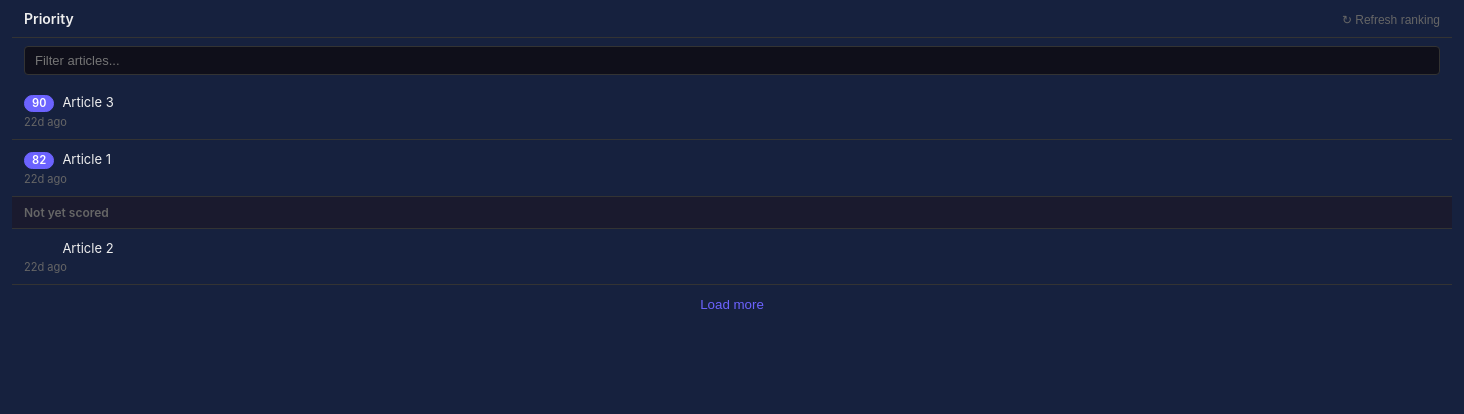
Test: PriorityList › rendersServerOrderAndPagesWithTheCursor
The image size is (1464, 414).
Expected: the text "Article 3" is shown, [62,93,114,111]
Click the button "Load more": (732,304) [12,285,1452,324]
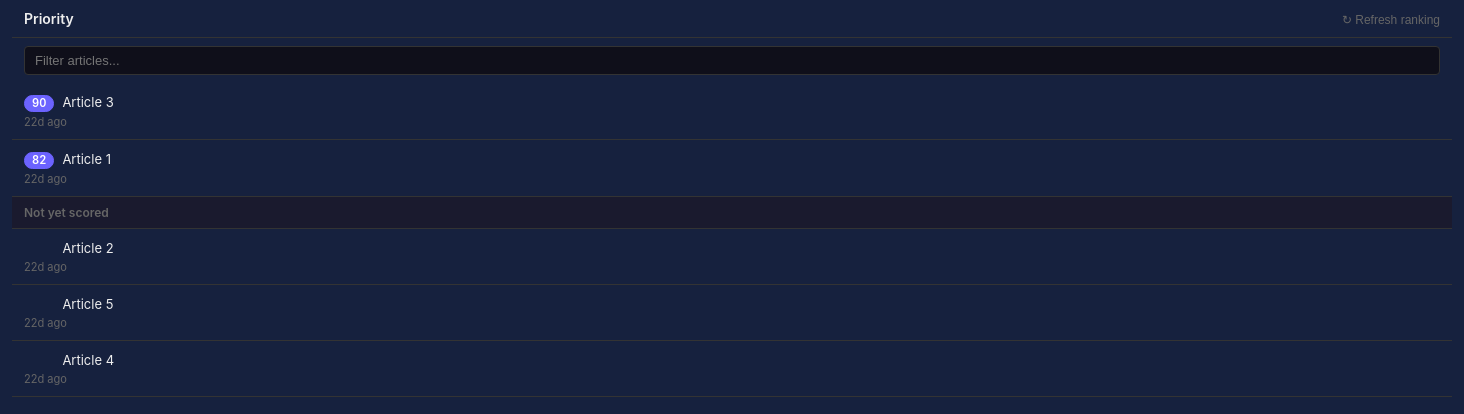
Expected: the text "Article 5" is shown, [62,295,113,313]
Expected: the text "Article 2" is shown once, [62,239,114,257]
Expected: the button "Load more" is gone
